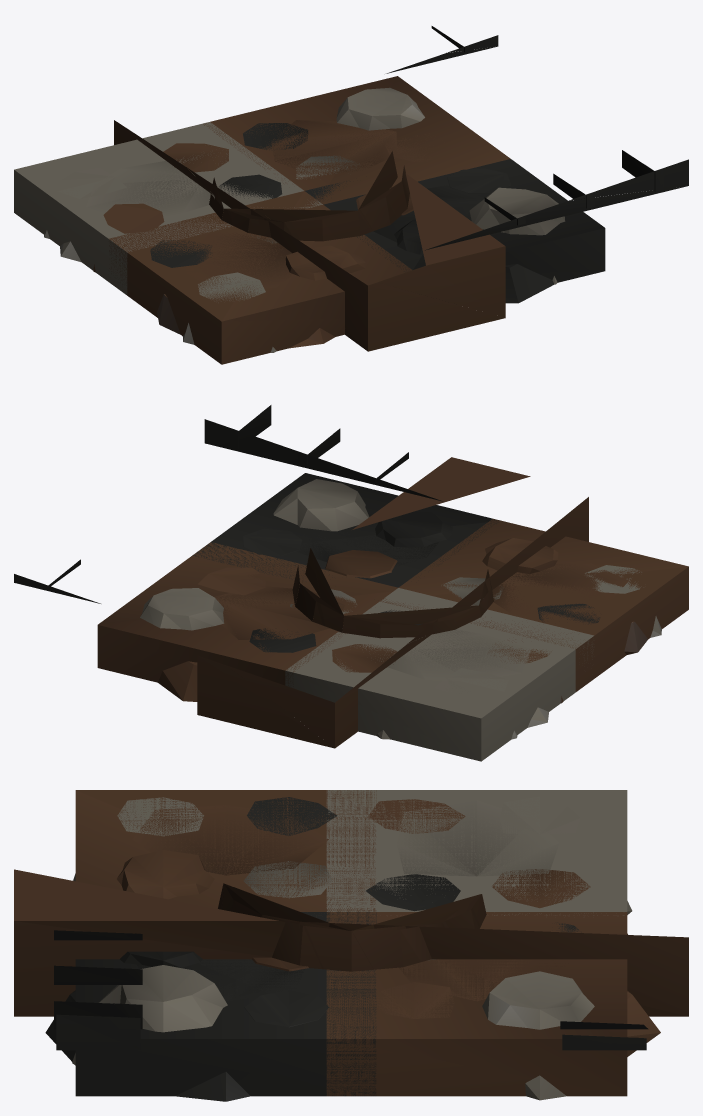
File: neutral_bridge_segment_destroyed.glb
3 views of the same model, one above another, from view 1: azimuth 30°, elevation 25°; view 2: azimuth 150°, elevation 25°; view 3: azimuth 270°, elevation 25° (orthographic). The views are drawn at different scales.
Parts seen in each view (by area): view 1: body (×3); view 2: body (×3); view 3: body (×3).
Part boxes in pixels (x1,y1,x2,y2): body (×3): (14, 26, 688, 364); body (×3): (14, 405, 688, 761); body (×3): (14, 790, 688, 1101).
Size of the model in its own units: 3.42 by 0.686 by 3.2.
